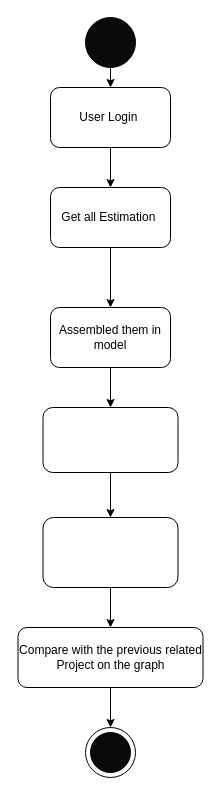
Some shapes in this 220 by 795 pixel diagram are drawn without their labels. The box of each missing label's shape, as (x1, y1, x2, y2) in pixels:
Find a new most accurate estimation: (42, 406, 178, 472)
Show the estimation on graph: (42, 516, 178, 588)
